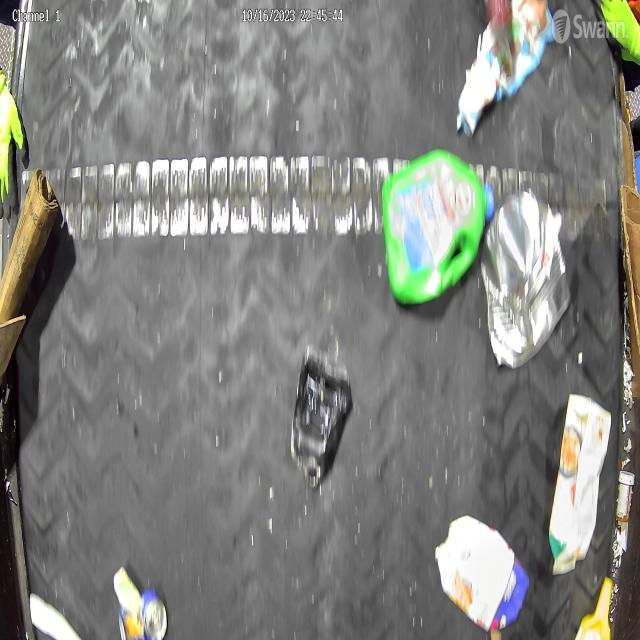can: (482, 192, 573, 370), (118, 586, 168, 640)
non_white_jug: (384, 151, 488, 306), (549, 392, 611, 576), (435, 515, 530, 632)
